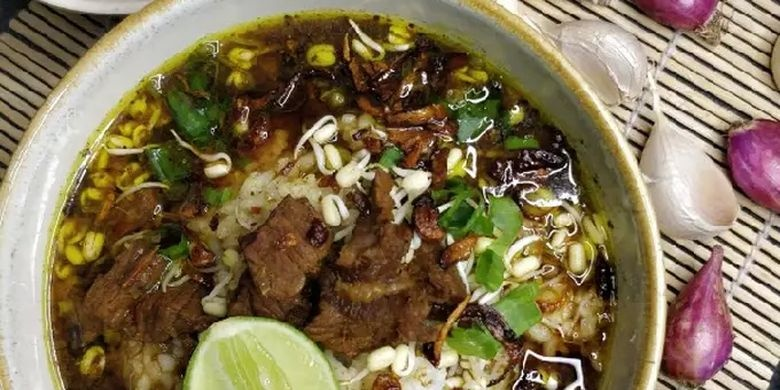rawon: (30, 40, 594, 367)
